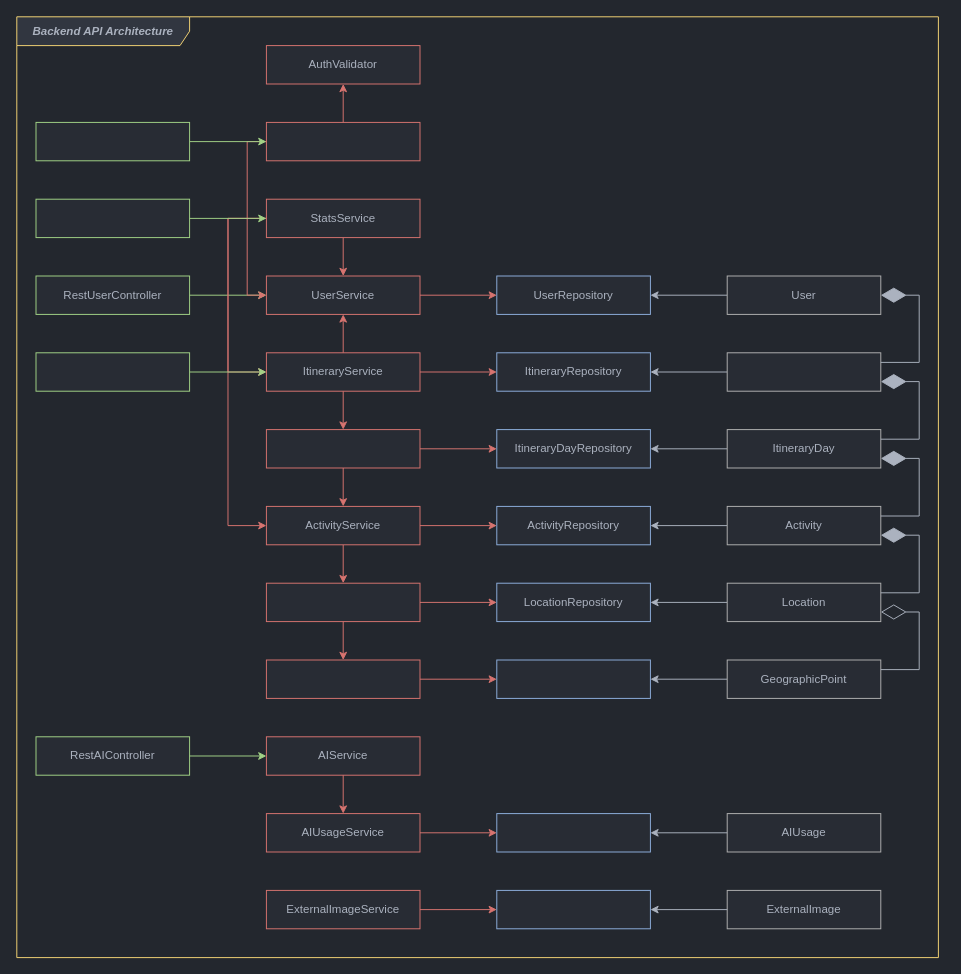
Some shapes in this 961 by 974 pixel diagram are drawn without their labels. The box of each missing label's shape, as (x1, y1, x2, y2) in pixels:
AIUsageRepository: (496, 813, 650, 852)
AuthService: (265, 121, 420, 161)
ExternalImageRepository: (496, 889, 650, 929)
GeographicPointRepository: (496, 659, 650, 698)
GeographicPointService: (265, 659, 420, 698)
Itinerary: (726, 352, 881, 391)
ItineraryDayService: (265, 429, 420, 468)
LocationService: (265, 582, 420, 622)
RestAuthController: (35, 121, 190, 161)
RestItineraryController: (35, 352, 190, 391)
RestStatsController: (35, 198, 190, 238)
